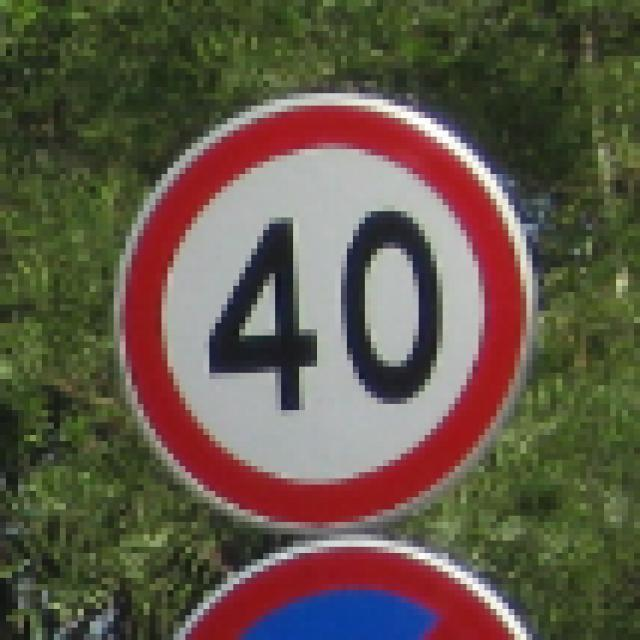Speed: (101, 94, 538, 538)
